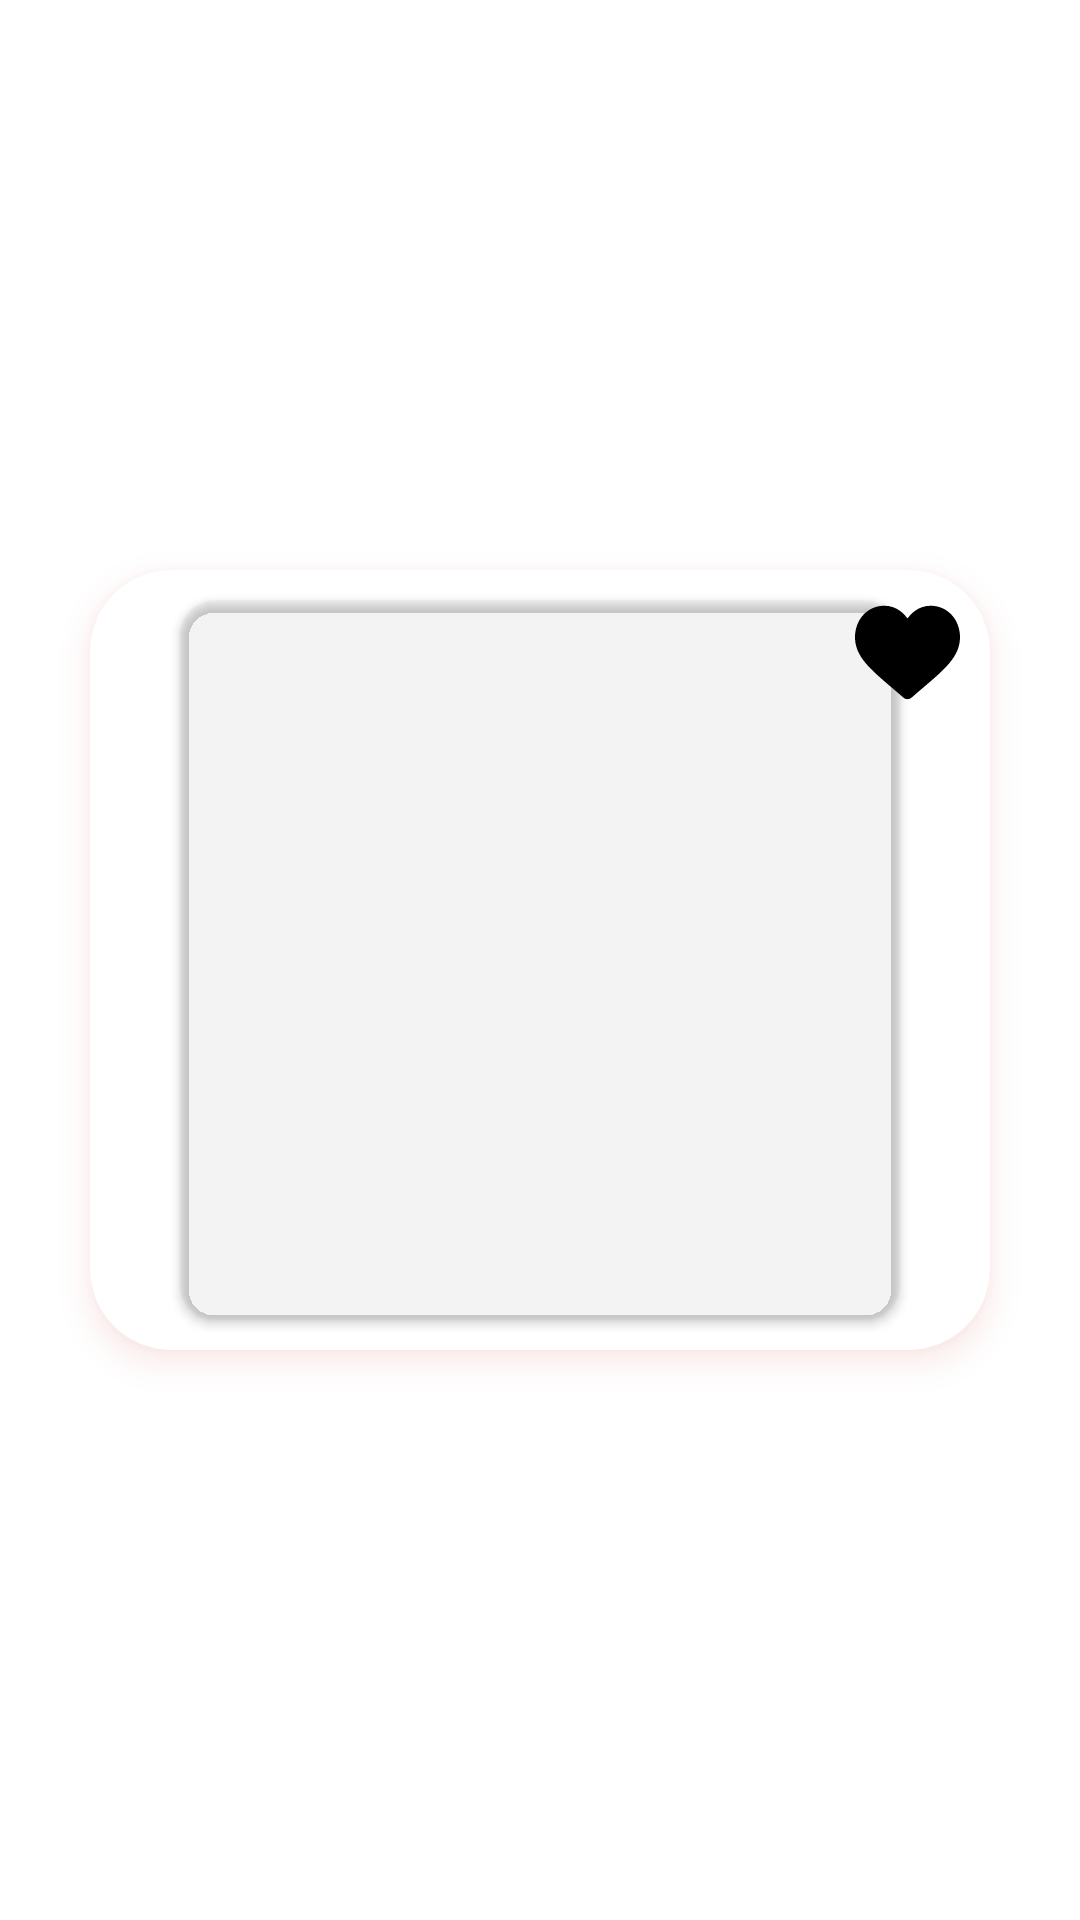

Locate icon controls on the screen. Image size 1080*1920, boxes as (x1, y1, x2, y2).
heart: (855, 602, 960, 705)
